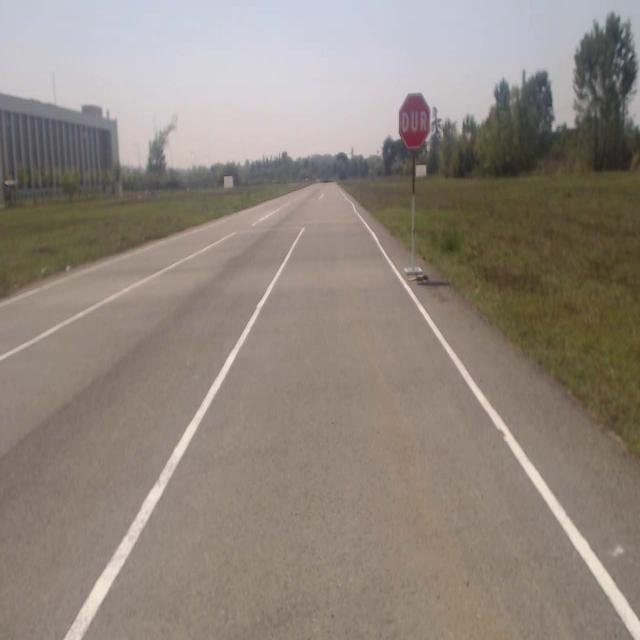dur: (400, 94, 430, 148)
